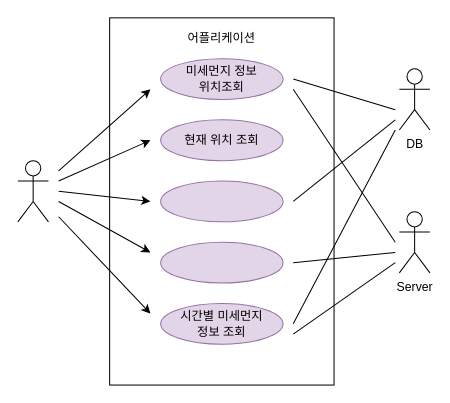
The diagram is 450 pixels wide and 403 high, and some of its shapes have lost their labels. Here are the shapes that lost their labels. From the top down, the box of each, then its label:
(17, 160, 48, 222): User
(160, 180, 283, 222): 즐겨찾기
(160, 241, 283, 283): 아두이노 실시간 미세먼지 정보 조회
